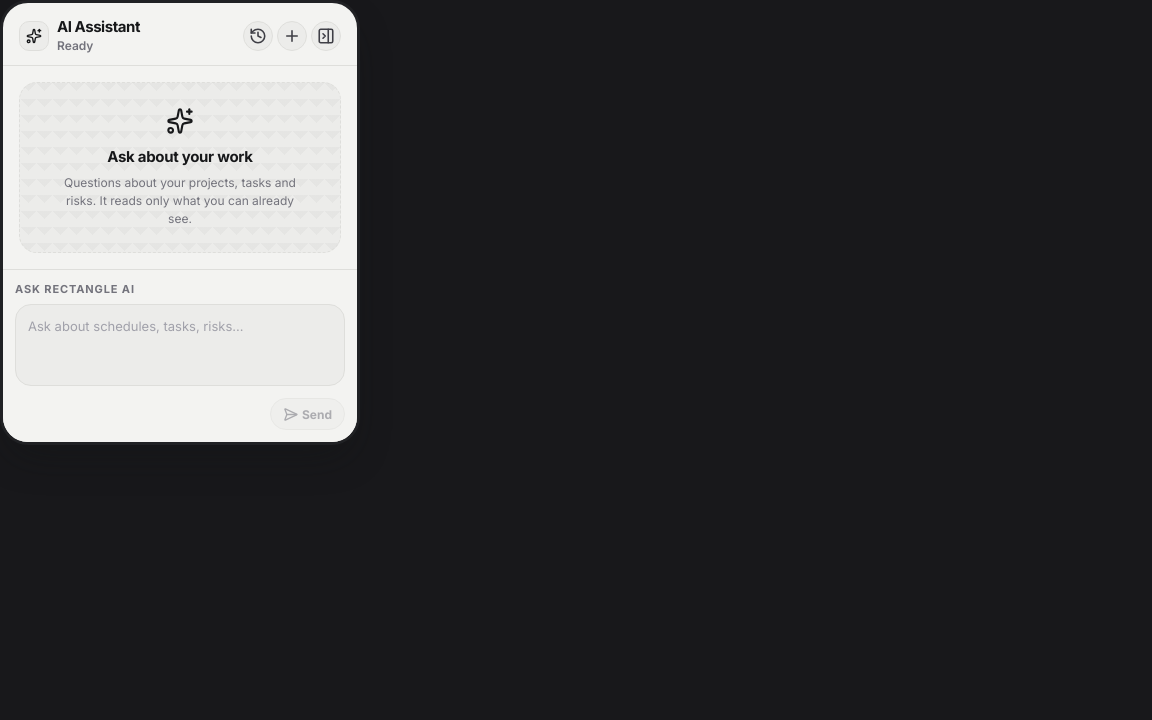
Scenario: AiAssistantPanel: page context and history › opens a past conversation and shows its turns
expect the text "Ready" is shown: met, box [57,38,93,52]
Click the button named "Past conversations" at [258, 36], box [243,21,273,51]
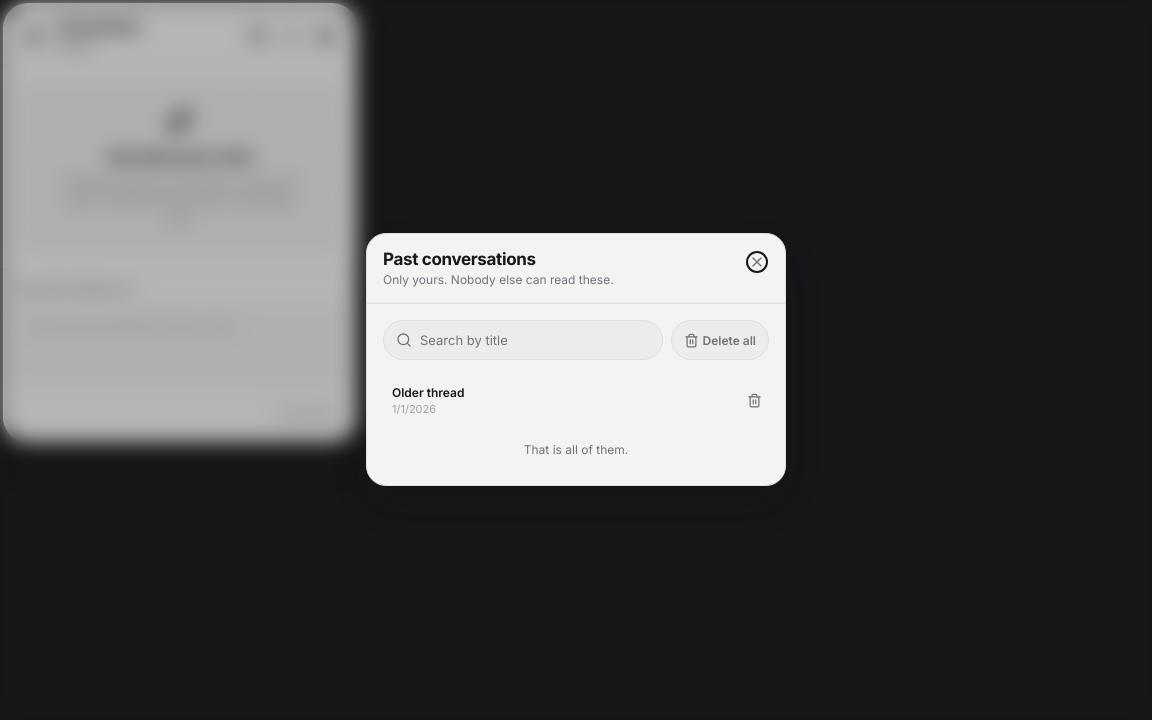
Click the text "Older thread" at [428, 393], box [392,386,464,401]
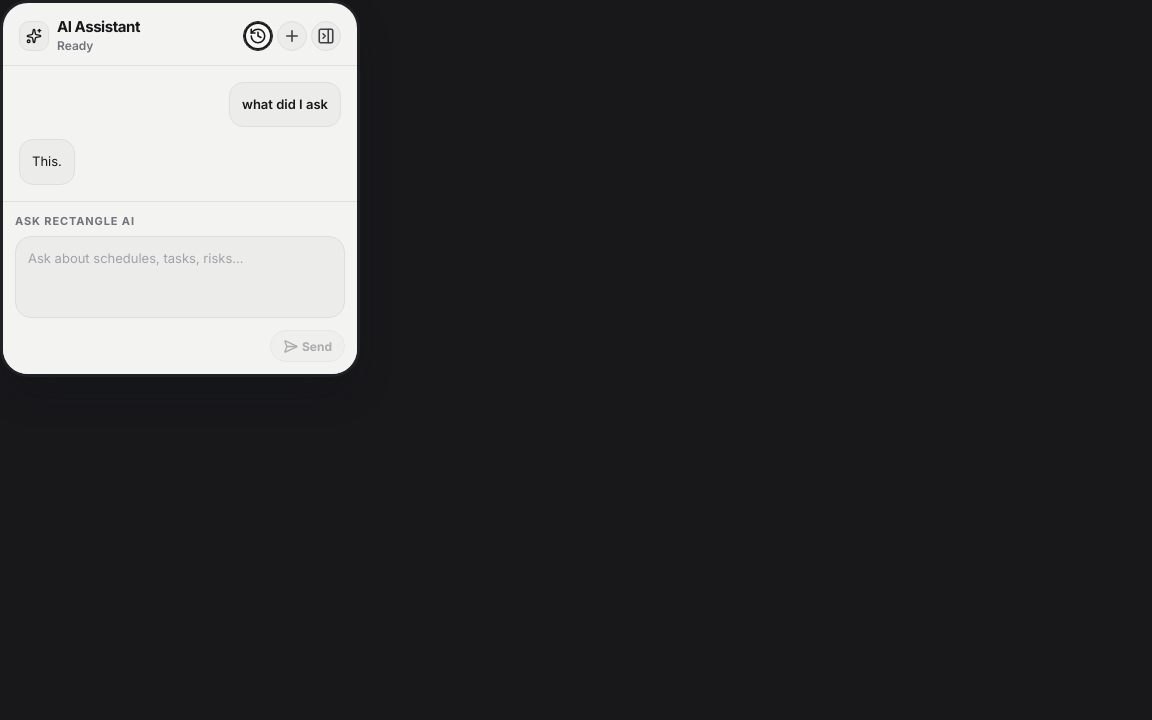
expect the text "what did I ask" is shown: met, box [242,94,328,114]
expect the text "This." is shown: met, box [32,152,62,172]
